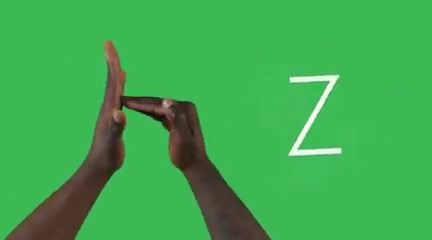Z: (75, 28, 233, 183)
